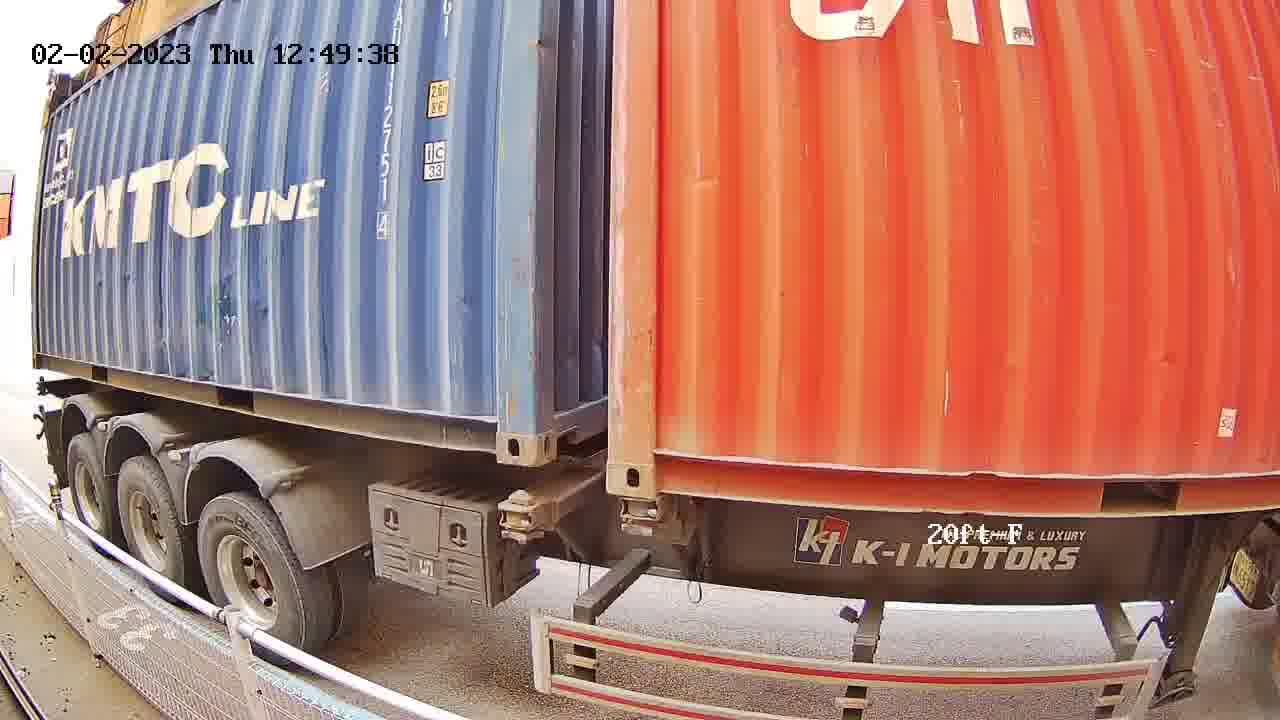Cone: (498, 491, 538, 547), (612, 497, 661, 539)
Hole_L: (610, 407, 701, 497), (534, 368, 591, 466)
Hole_R: (453, 382, 534, 466)
Tire: (197, 499, 301, 665), (118, 459, 185, 597), (67, 446, 110, 549)
